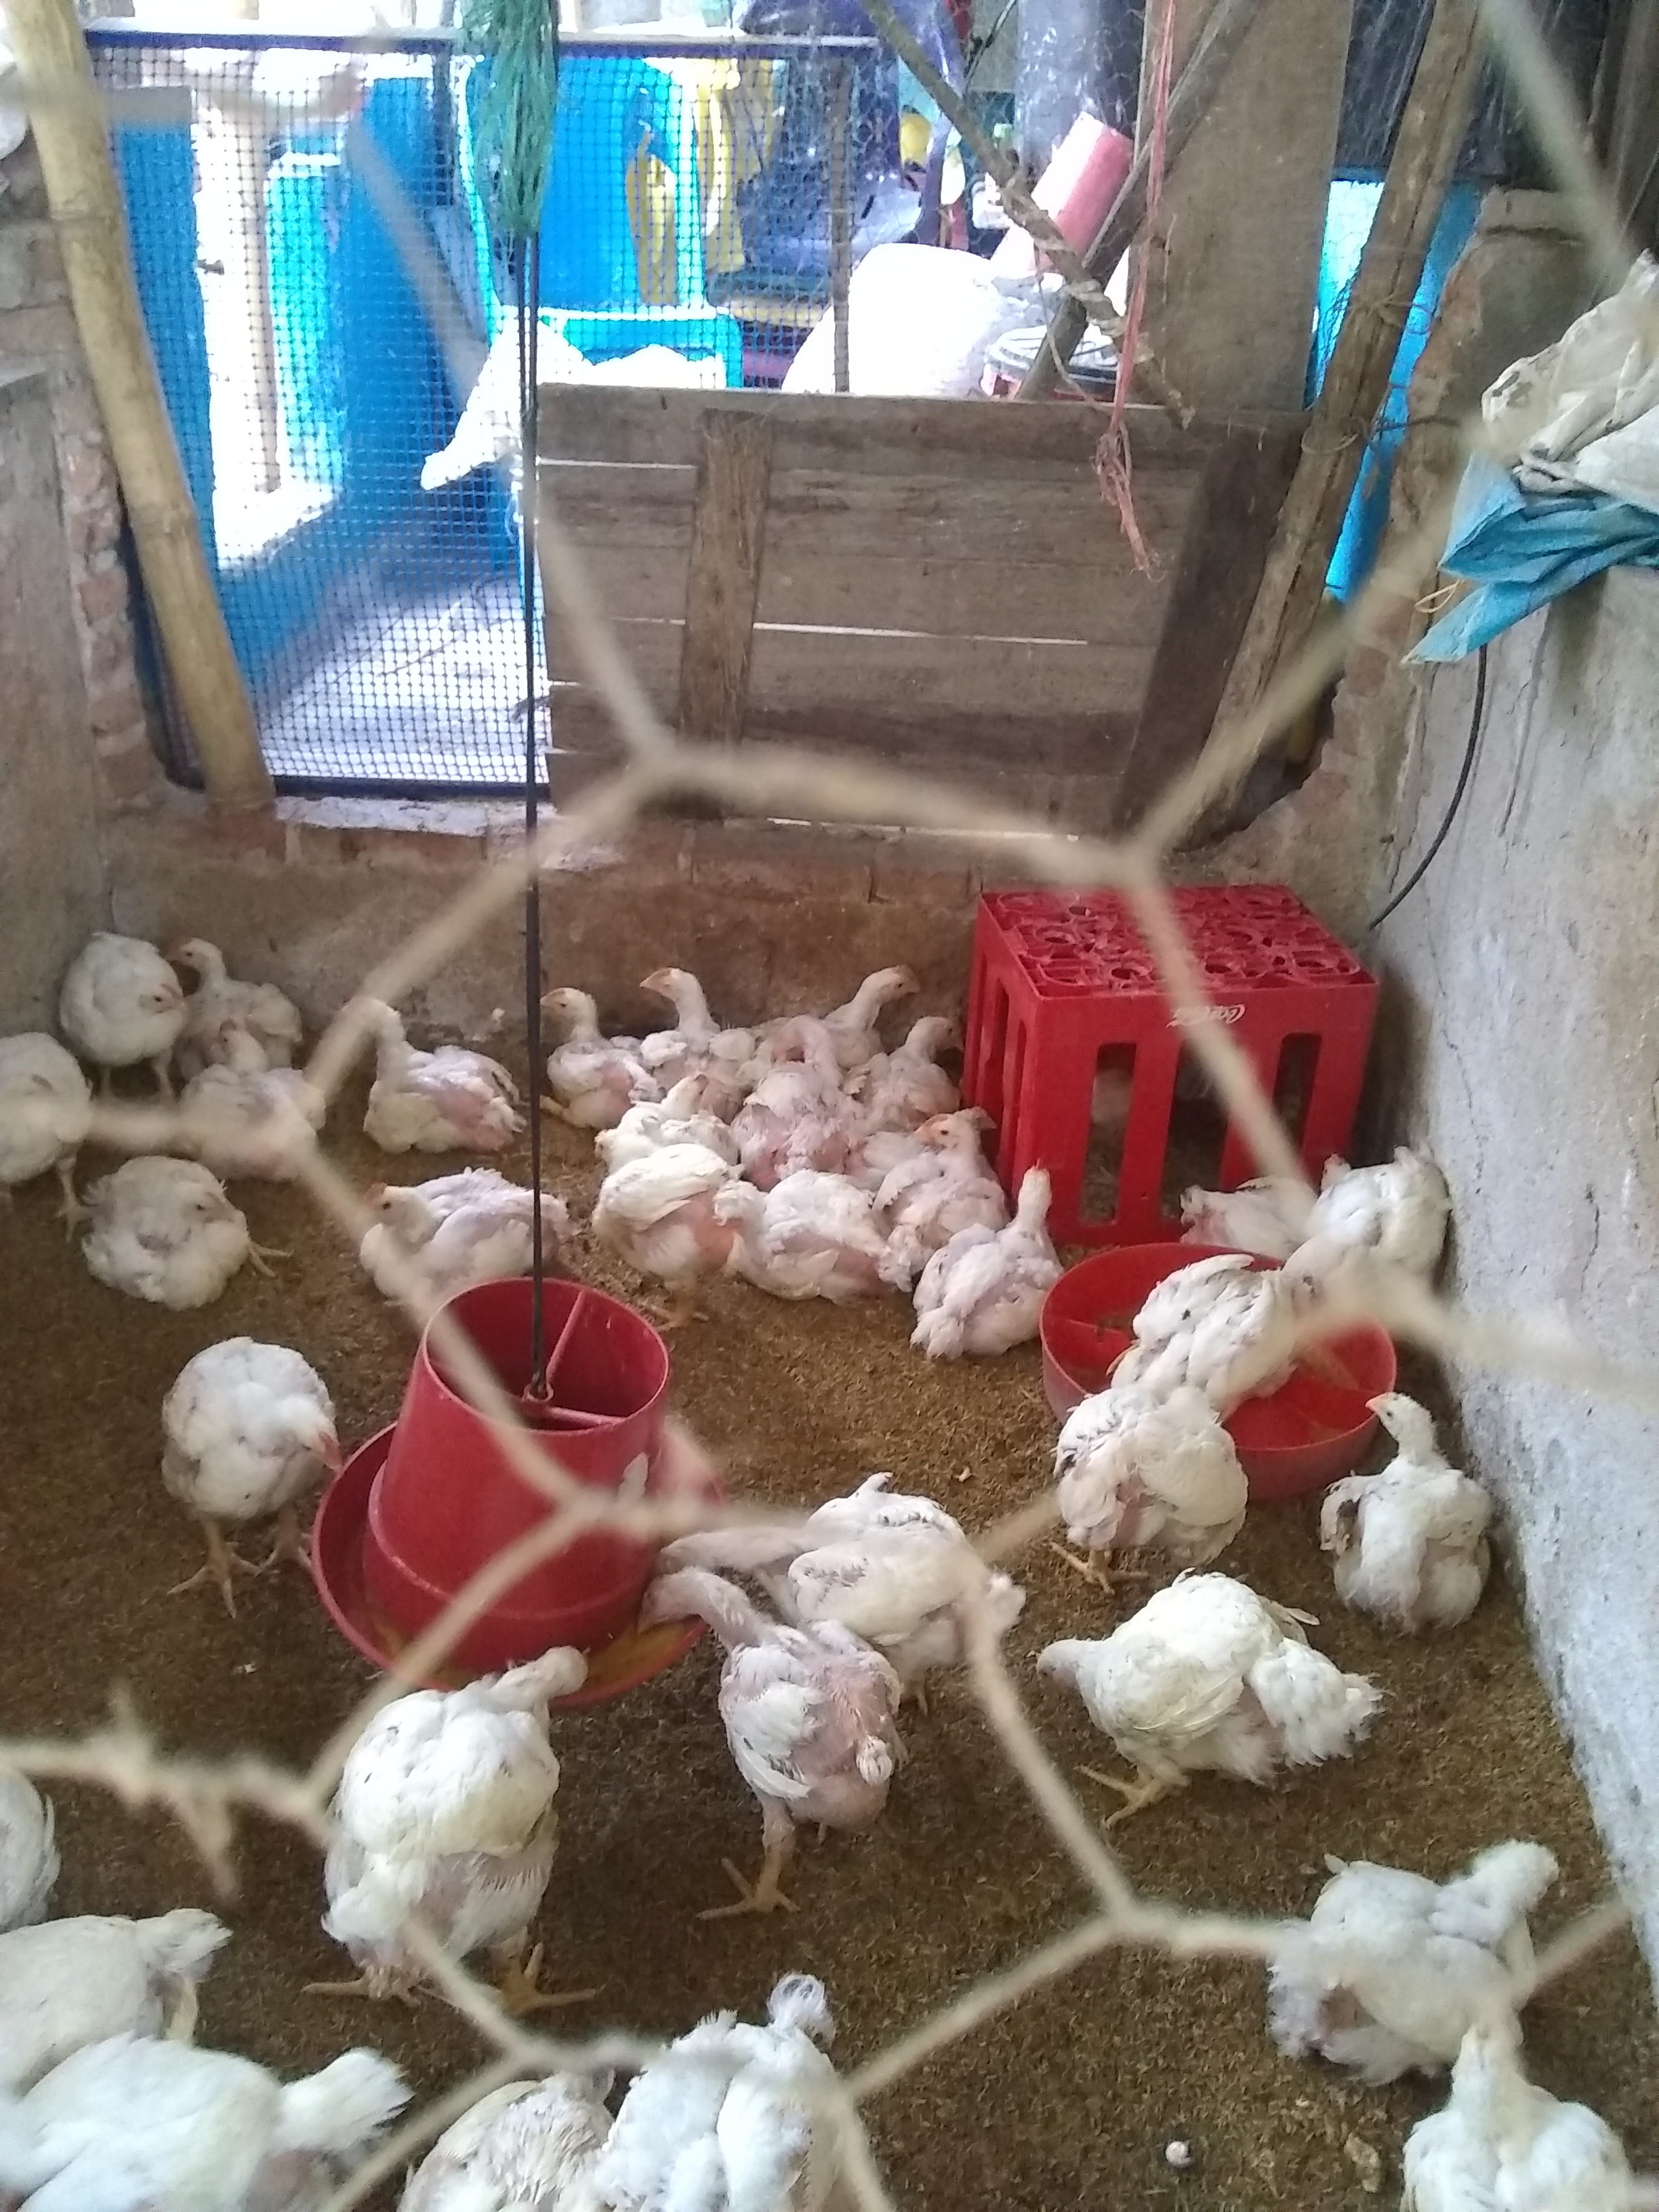Pollos: (603, 1568, 927, 1919), (314, 1634, 605, 2010), (1199, 1804, 1577, 2076), (667, 1453, 1009, 1702), (1042, 1581, 1382, 1799), (21, 2034, 378, 2212), (1028, 1357, 1283, 1599), (1363, 1998, 1645, 2212), (143, 1336, 366, 1606), (1324, 1378, 1567, 1620), (622, 2003, 873, 2212), (0, 1871, 253, 2048), (1291, 1118, 1485, 1308), (1108, 1237, 1335, 1395), (396, 2069, 638, 2212), (352, 1162, 566, 1320), (336, 977, 525, 1148), (922, 1169, 1094, 1341), (75, 1155, 251, 1306), (584, 1122, 721, 1308), (1136, 1134, 1358, 1249), (181, 1021, 331, 1186), (721, 1167, 885, 1308), (58, 920, 181, 1087), (0, 1026, 101, 1226), (166, 928, 308, 1047), (523, 974, 645, 1099), (0, 1737, 78, 1916), (835, 942, 934, 1061), (744, 1066, 857, 1169), (913, 1116, 1002, 1233), (885, 1012, 985, 1115), (641, 963, 727, 1066), (667, 1076, 732, 1130), (772, 1008, 826, 1069), (955, 1097, 1007, 1137)
